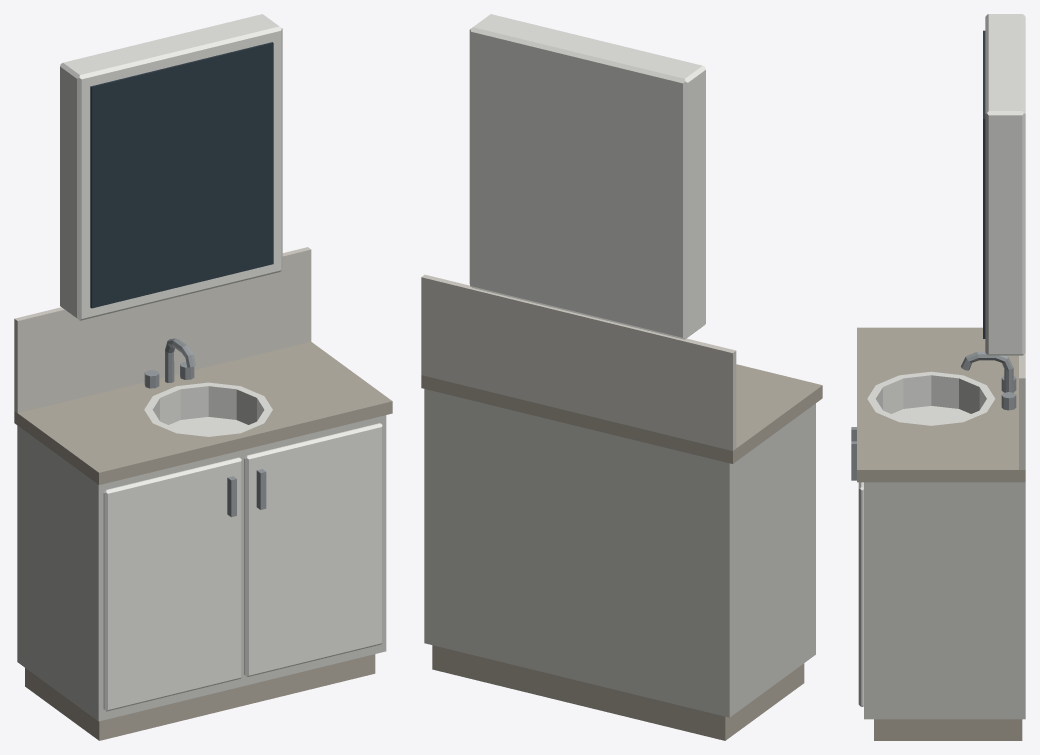
File: meuble_sdb.glb
3 renders of one model, left to right at view 1: azimuth 30°, elevation 25°; view 2: azimuth 150°, elevation 25°; view 3: azimuth 270°, elevation 25°, orthographic. The views are drawn at different scales.
Visible parts, largest first — view 1: doors, mirror, body, splashback, worktop, cabinet, plinth, basin, handles, tap; view 2: body, cabinet, splashback, worktop, plinth; view 3: body, worktop, cabinet, basin, plinth, doors, mirror, splashback, tap, tap_knobs, handles.
Boxes of the visible parts, left/top/right/bottom form: doors: left=103, top=423, right=382, bottom=711; mirror: left=90, top=42, right=273, bottom=308; body: left=17, top=415, right=386, bottom=721; splashback: left=14, top=247, right=311, bottom=412; worktop: left=14, top=342, right=392, bottom=484; cabinet: left=60, top=14, right=282, bottom=320; plinth: left=25, top=654, right=375, bottom=740; basin: left=144, top=382, right=272, bottom=436; handles: left=227, top=469, right=266, bottom=517; tap: left=165, top=338, right=195, bottom=382; body: left=424, top=389, right=815, bottom=717; cabinet: left=469, top=14, right=705, bottom=339; splashback: left=421, top=274, right=736, bottom=450; worktop: left=421, top=364, right=822, bottom=463; plinth: left=432, top=645, right=804, bottom=740; body: left=864, top=482, right=1025, bottom=719; worktop: left=857, top=327, right=1025, bottom=482; cabinet: left=985, top=14, right=1025, bottom=355; basin: left=867, top=371, right=995, bottom=425; plinth: left=874, top=719, right=1022, bottom=740; doors: left=858, top=482, right=863, bottom=706; mirror: left=983, top=30, right=985, bottom=338; splashback: left=1019, top=353, right=1025, bottom=469; tap: left=961, top=351, right=1013, bottom=392; tap_knobs: left=1001, top=376, right=1016, bottom=410; handles: left=851, top=427, right=856, bottom=480.
Bounding box in the file's own units: 1 × 2 × 0.5175.
7 materials, 7 textured.
